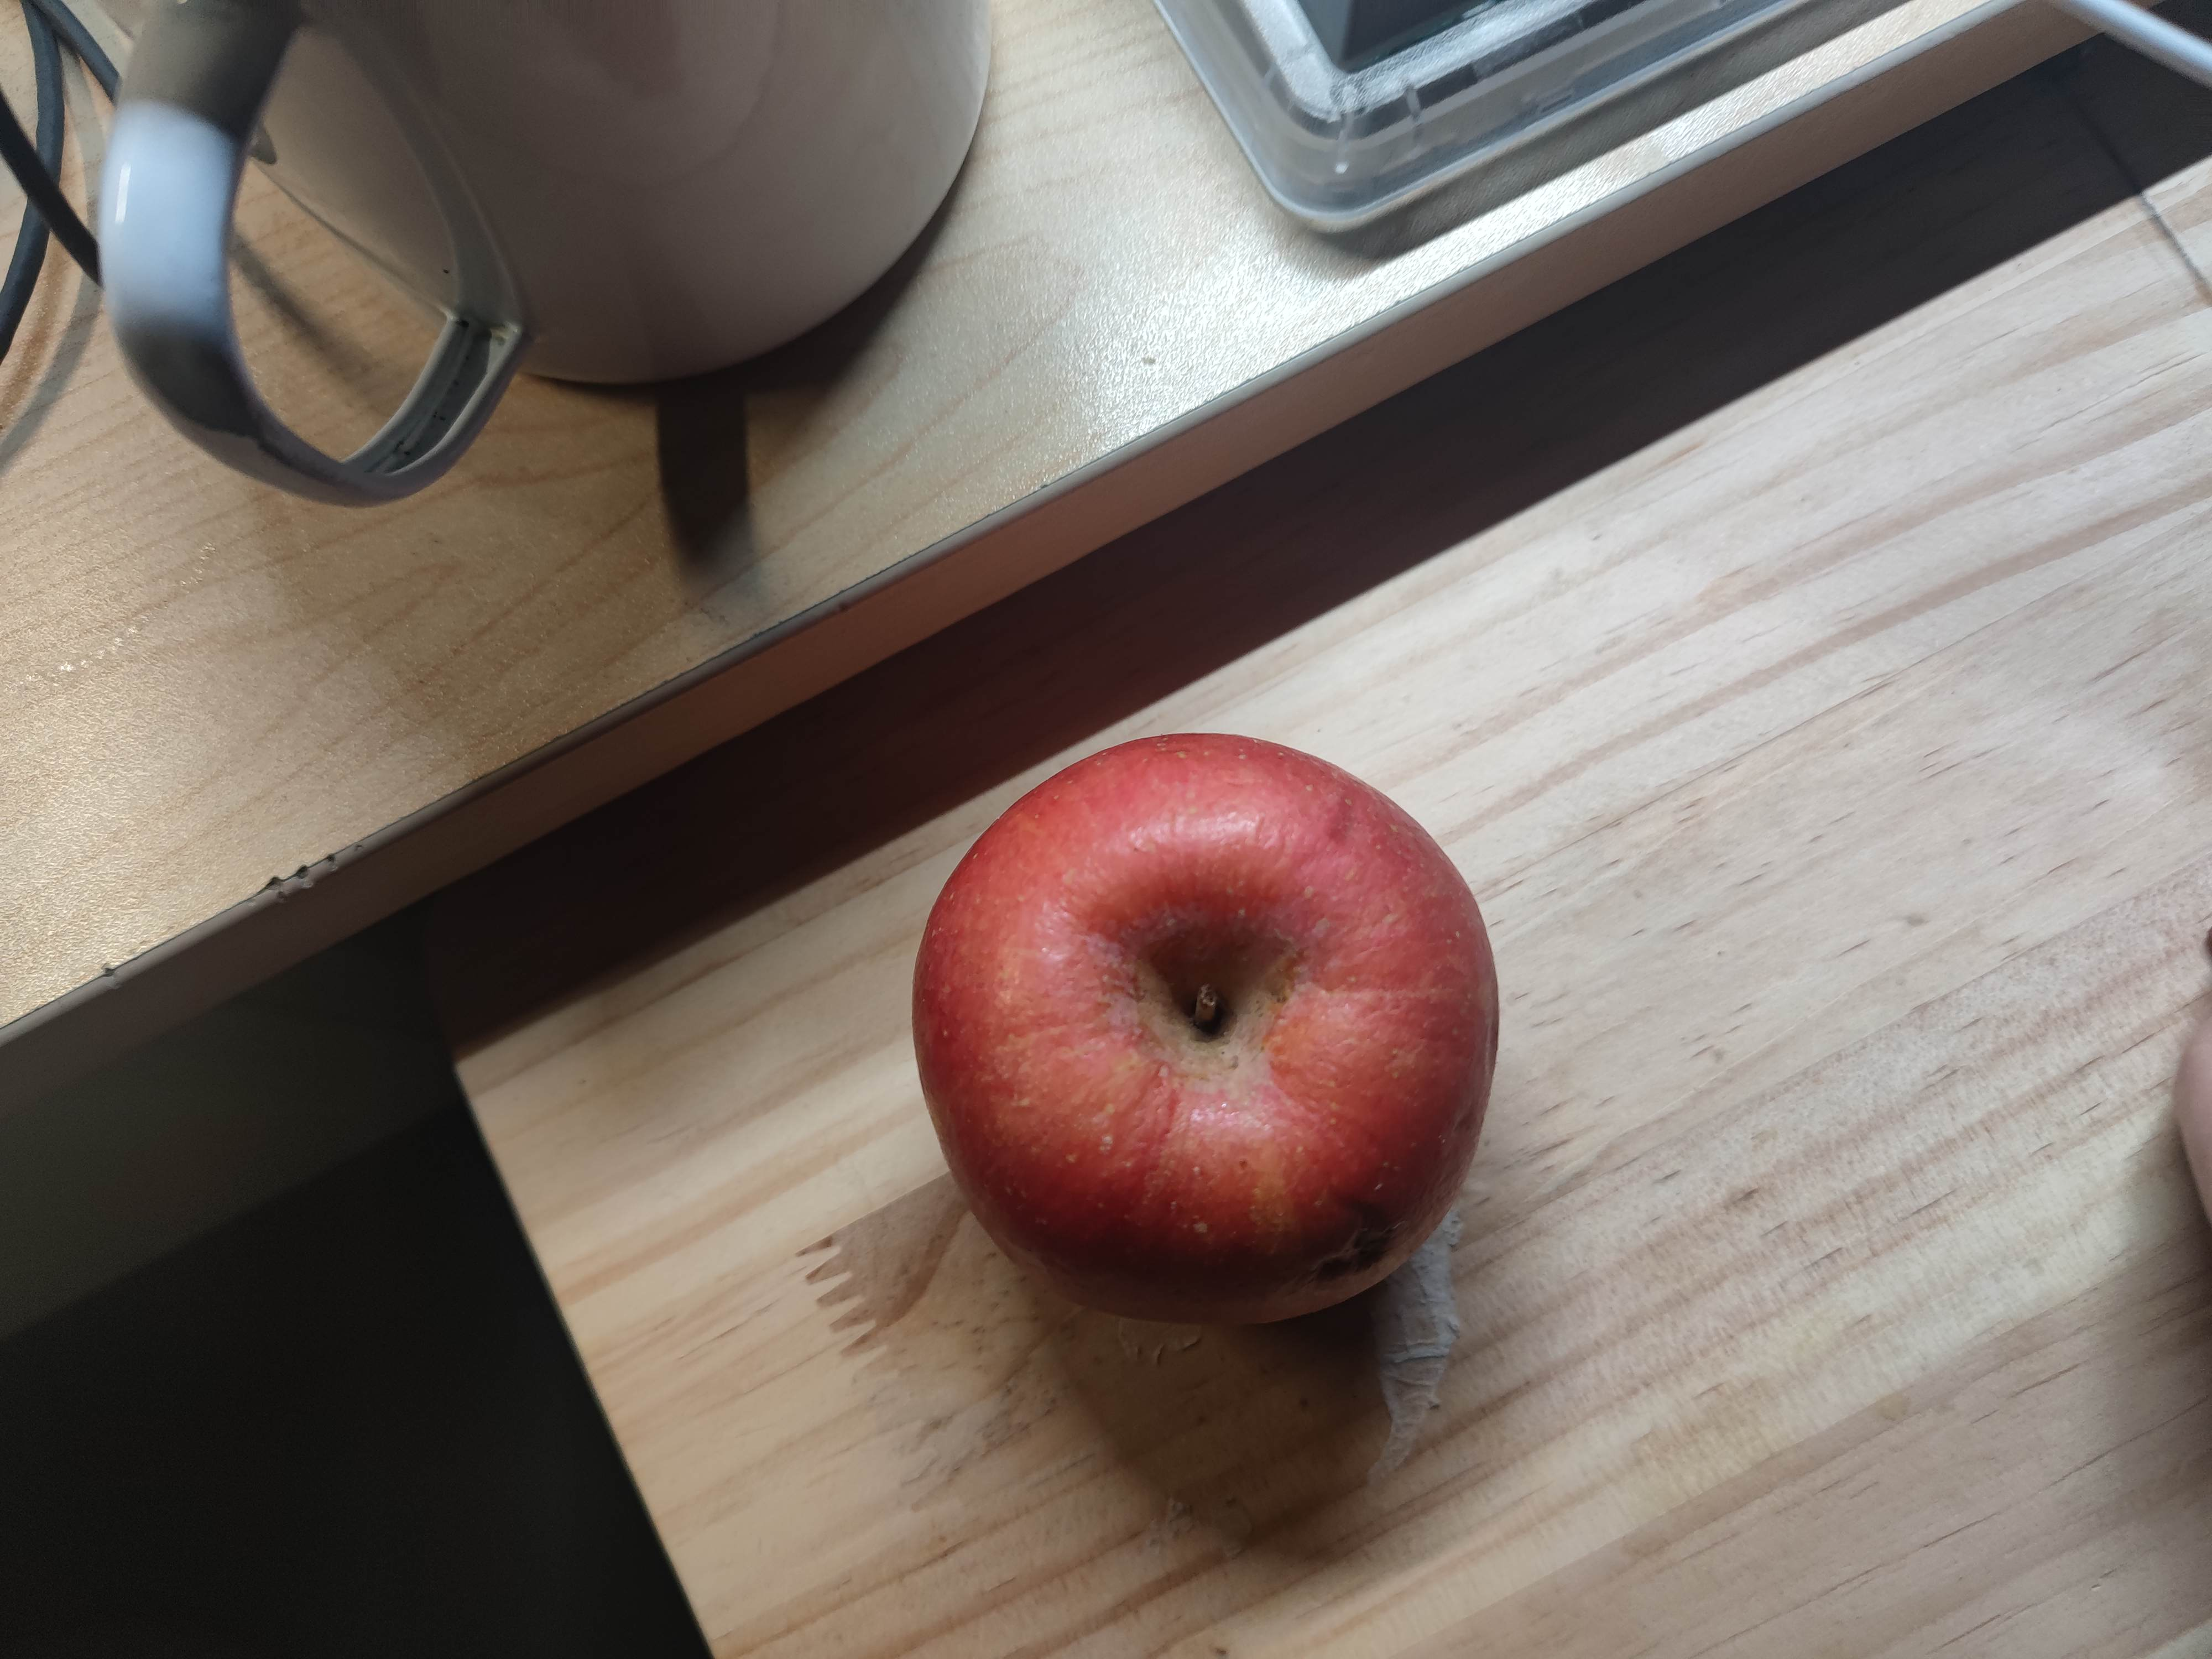apple: (921, 734, 1508, 1316)
